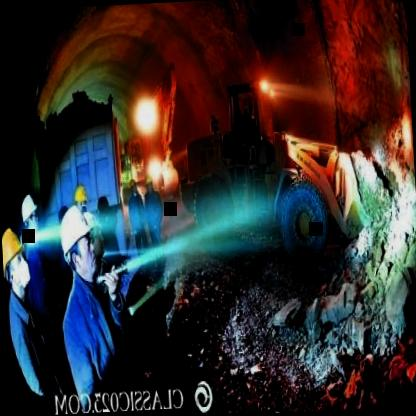helmet: (58, 207, 97, 280), (0, 220, 30, 293), (78, 210, 105, 260), (17, 190, 41, 241), (71, 182, 90, 214), (143, 172, 155, 193), (126, 176, 138, 193)
